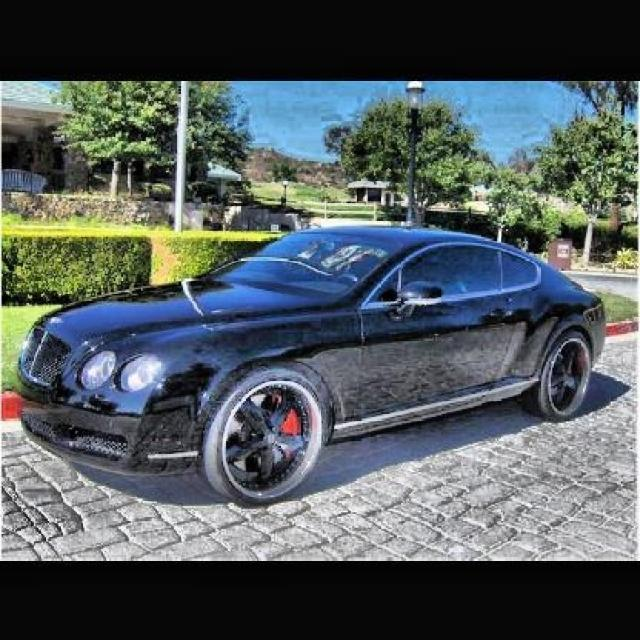black: (19, 224, 640, 440)
